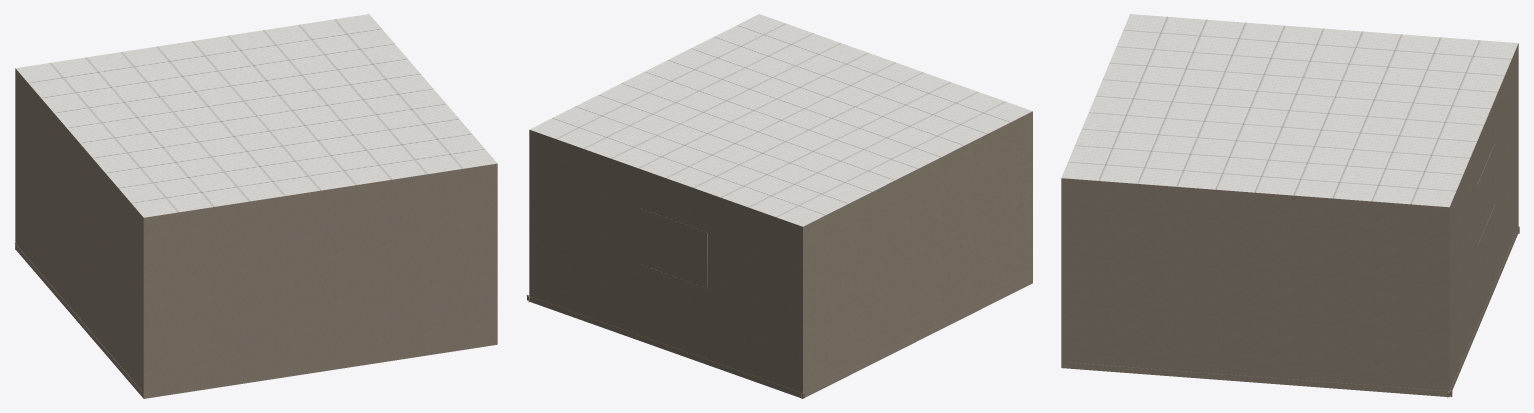
File: EnvBreakRoom01.fbx
The picture shows the model from 3 angles, left to right: view 1: azimuth 30°, elevation 25°; view 2: azimuth 150°, elevation 25°; view 3: azimuth 270°, elevation 25°; orthographic projection. The views are drawn at different scales.
Parts seen in each view (by area): view 1: Wall_Back, Wall_Ceiling, Wall_FourWalls; view 2: Wall_FourWalls, Wall_Ceiling; view 3: Wall_FourWalls, Wall_Ceiling, BaseBoard.
Part boxes in pixels (left/top/right/bottom): Wall_Back: left=143, top=163, right=497, bottom=398; Wall_Ceiling: left=16, top=14, right=497, bottom=217; Wall_FourWalls: left=15, top=68, right=143, bottom=398; Wall_FourWalls: left=529, top=111, right=1032, bottom=398; Wall_Ceiling: left=530, top=14, right=1032, bottom=226; Wall_FourWalls: left=1061, top=43, right=1518, bottom=397; Wall_Ceiling: left=1061, top=14, right=1518, bottom=207; BaseBoard: left=1067, top=226, right=1519, bottom=397.
Size of the model in its own units: 533 by 244 by 530.
